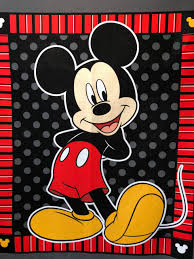mickey: (28, 20, 167, 247)
